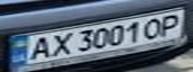0: (90, 25, 112, 50), (106, 21, 127, 47)
1: (121, 20, 145, 44)
3: (72, 27, 96, 53)
A: (21, 34, 54, 63)
O: (139, 16, 169, 40)
P: (154, 11, 187, 38)
X: (45, 30, 75, 59)
